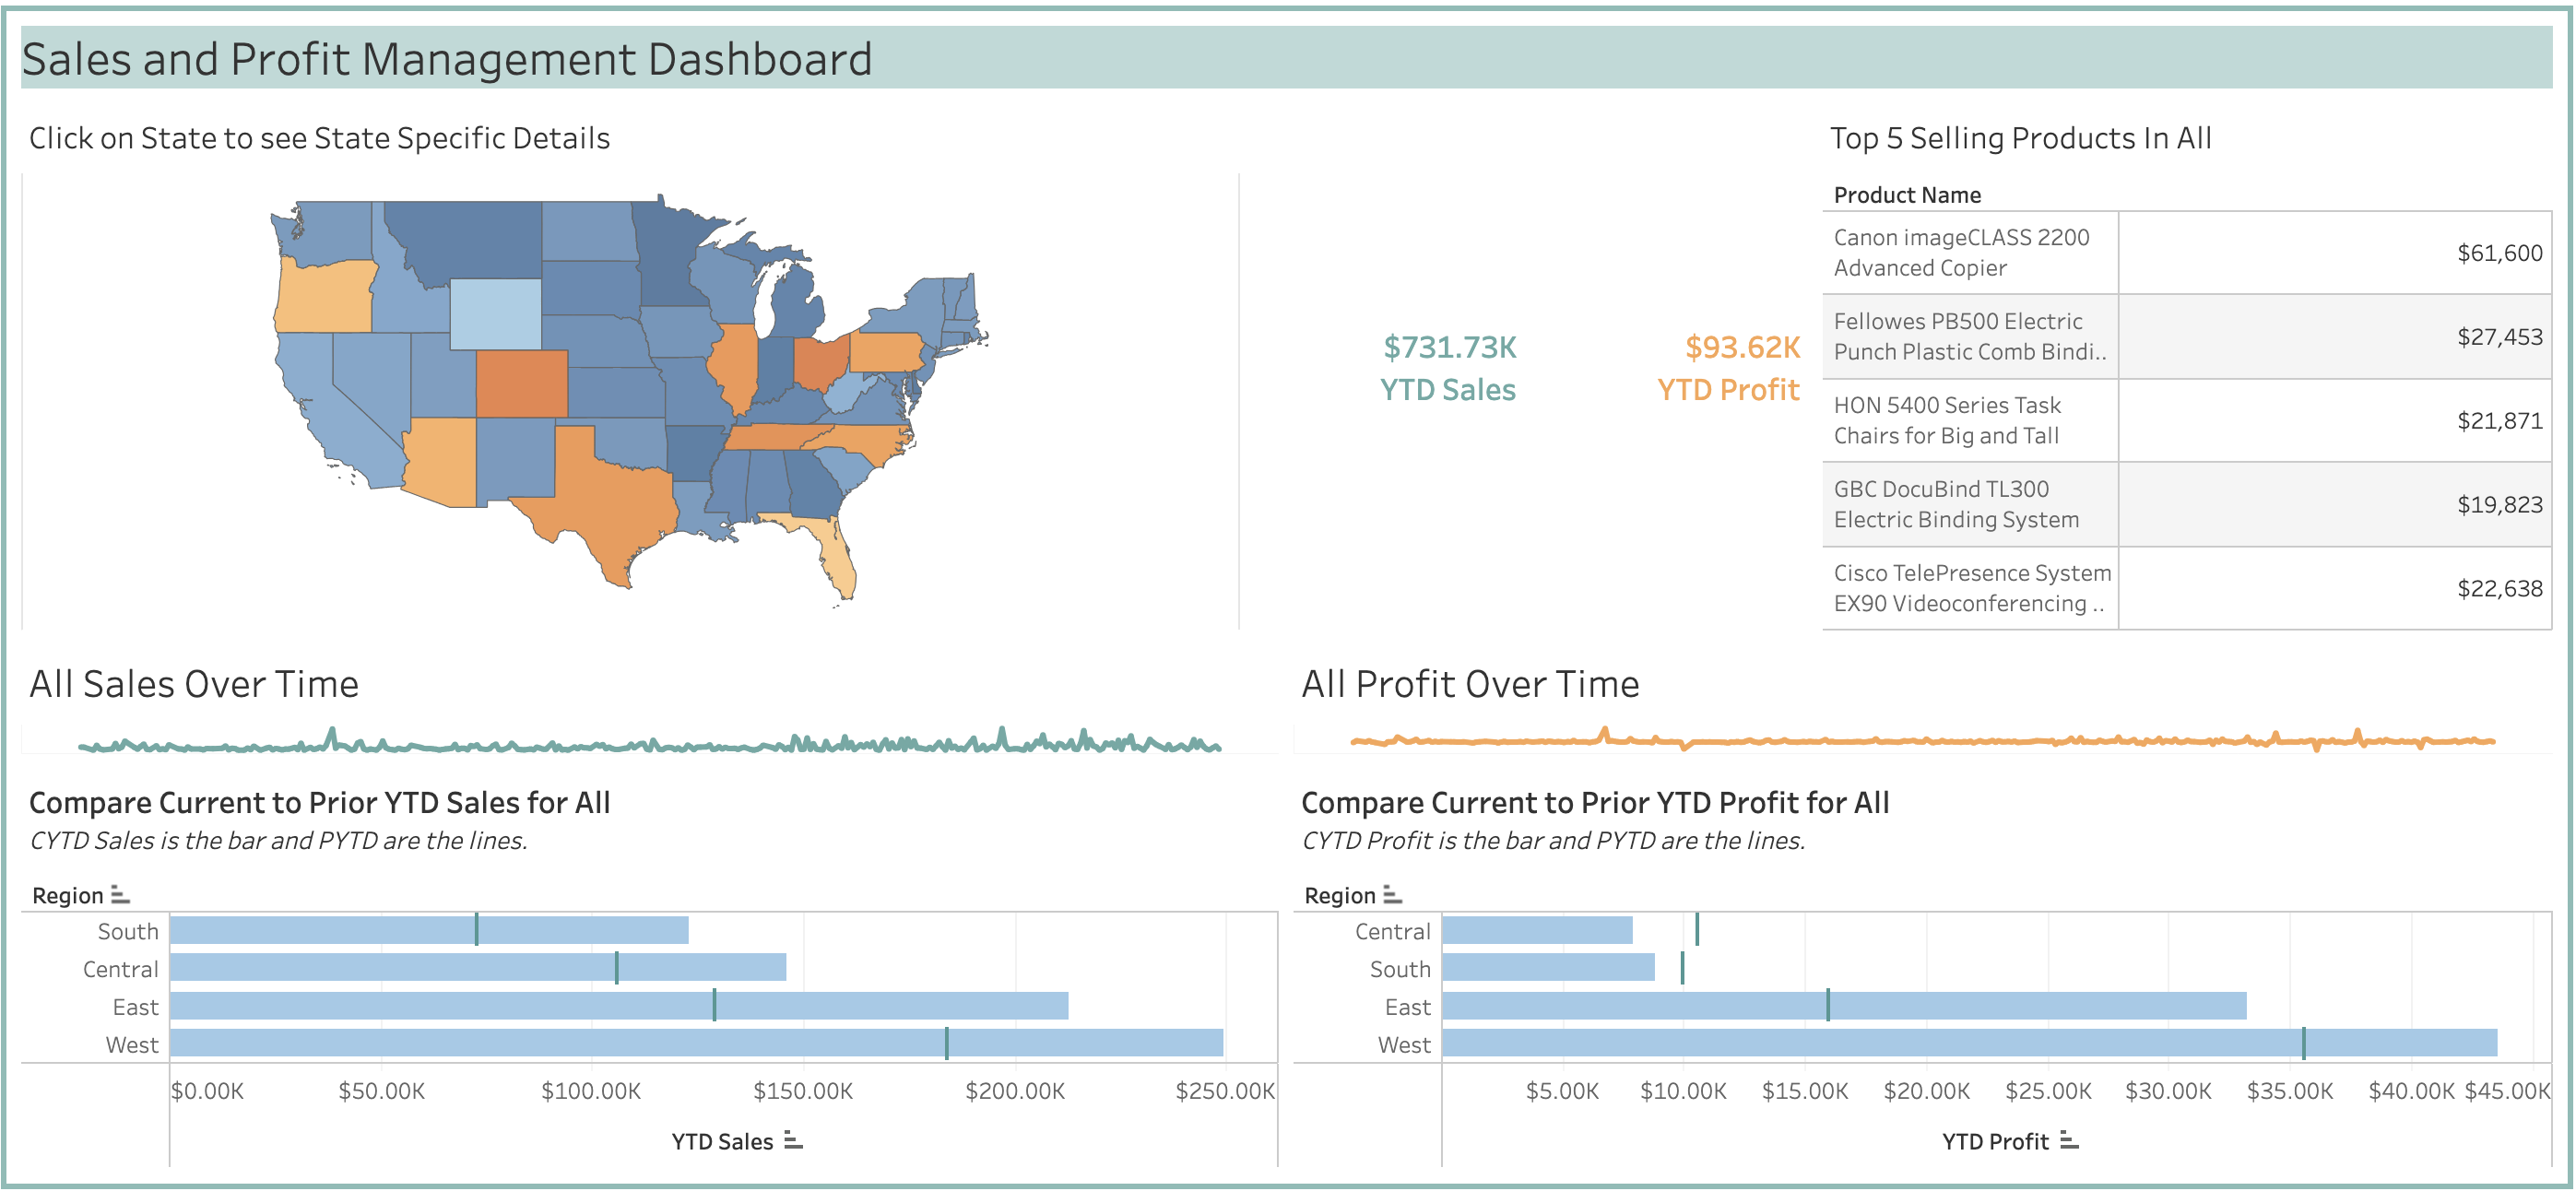

This screenshot's page, from the dashboard's own definition file:
{"tool":"tableau","page":{"name":"Dashboard 1","canvas":[1000,1000],"units":"permille","ordinal":0},"visuals":[{"type":"title","box":[16.5,18.6,967,52]},{"type":"worksheet","title":"Map","mark":"Automatic","box":[16.5,70.5,468.6,456.8]},{"type":"worksheet","title":"YTD Sales","mark":"Automatic","box":[485.1,70.5,107.8,456.8]},{"type":"worksheet","title":"YTD Profit","mark":"Automatic","box":[592.9,70.5,107.8,456.8]},{"type":"worksheet","title":"Top 5 Selling Products Per State","mark":"Automatic","rows":["State","Calculation_1815021072715558923","Product Name"],"box":[700.8,70.5,282.8,456.8]},{"type":"worksheet","title":"Sales Sparkline","mark":"Automatic","rows":["Calculation_1815021072695914496"],"cols":["Order Date"],"box":[16.5,527.3,483.4,104.1]},{"type":"worksheet","title":"Profit Sparkline","mark":"Automatic","rows":["YTD Sales (copy)_1815021072697053186"],"cols":["Order Date"],"box":[499.9,527.3,483.6,104.2]},{"type":"worksheet","title":"Sales Dual Axis","mark":"GanttBar","rows":["Region"],"cols":["Calculation_1815021072695914496","Calculation_1815021072699342852"],"box":[16.5,631.4,483.4,350.1]},{"type":"worksheet","title":"Profit Dual Axis","mark":"Automatic","rows":["Region"],"cols":["YTD Sales (copy)_1815021072697053186","Prior YTD Sales (copy)_1815021072699523077"],"box":[499.9,631.5,483.6,350]}]}

Visuals, with their boxes on the dashboard's canvas, which has no fixed pixel size, in thousandths of its width and height (x1, y1, x2, y2). These are canvas units, not pixel positions in the 2576x1191 screenshot, which may show the page scaled, cropped or inside an application window:
title: region(16, 19, 984, 71)
"Map" worksheet: region(16, 70, 485, 527)
"YTD Sales" worksheet: region(485, 70, 593, 527)
"YTD Profit" worksheet: region(593, 70, 701, 527)
"Top 5 Selling Products Per State" worksheet: region(701, 70, 984, 527)
"Sales Sparkline" worksheet: region(16, 527, 500, 631)
"Profit Sparkline" worksheet: region(500, 527, 984, 632)
"Sales Dual Axis" worksheet (GanttBar marks): region(16, 631, 500, 982)
"Profit Dual Axis" worksheet: region(500, 632, 984, 982)
